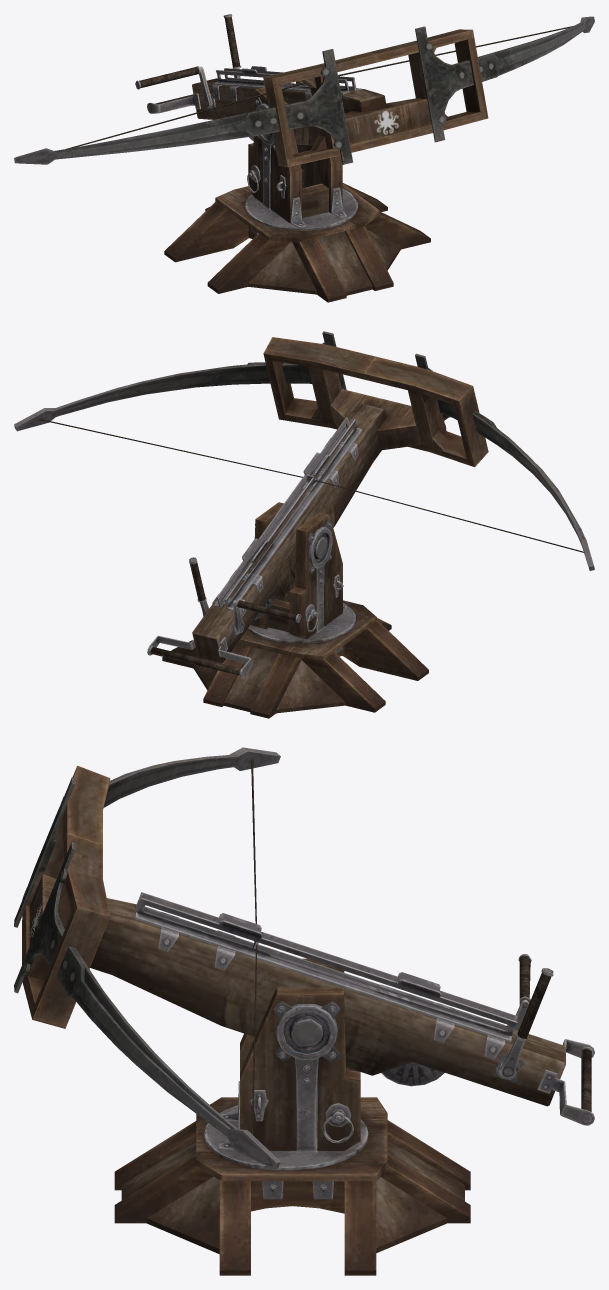
File: Ballista3-transformed.glb
3 views of the same model, one above another, from view 1: azimuth 30°, elevation 25°; view 2: azimuth 150°, elevation 25°; view 3: azimuth 270°, elevation 25° (orthographic). The views are drawn at different scales.
Parts seen in each view (by area): view 1: Ballista3; view 2: Ballista3; view 3: Ballista3.
Boxes of the visible parts, x1,y1,x2,y2 form: Ballista3: (14, 14, 594, 302); Ballista3: (14, 331, 594, 718); Ballista3: (14, 747, 594, 1275).
Bounding box in the file's own units: 4.79 × 2.11 × 2.87.
1 material, 1 textured.
